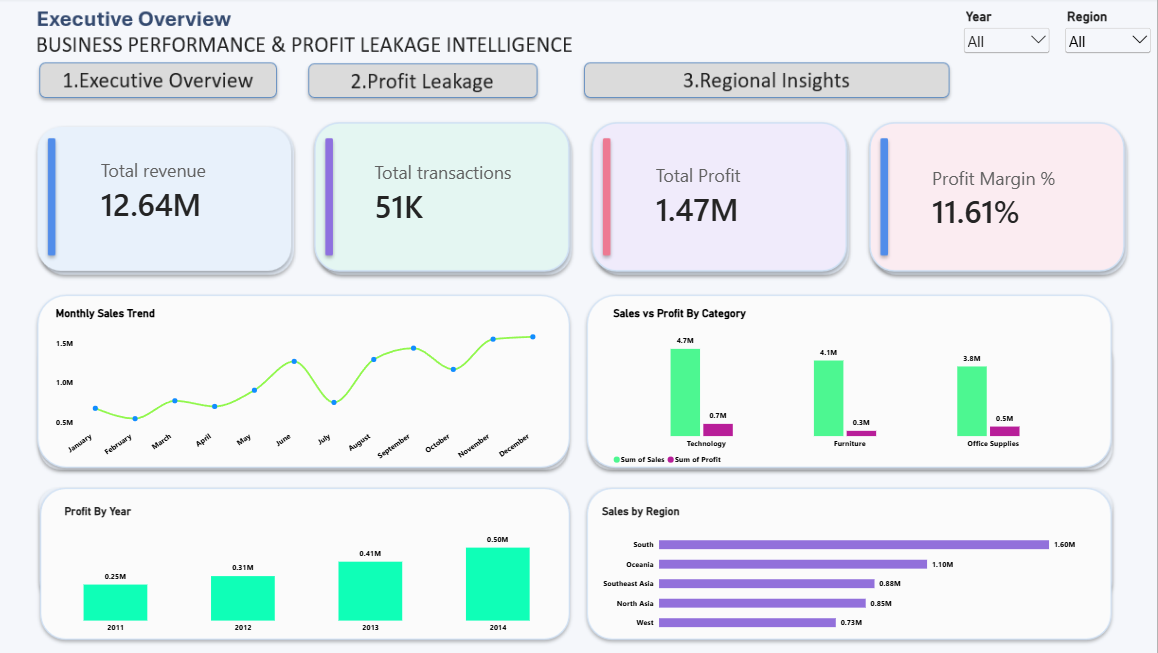

What the dashboard file says about the page in this screenshot:
{"tool":"powerbi","page":{"name":"Executive overview","canvas":[1920,1080],"ordinal":0},"visuals":[{"type":"cardVisual","fields":{"Data":["Superstore.Total revenue"]},"box":[164.7,247,216.1,146.1],"z":0},{"type":"cardVisual","fields":{"Data":["Superstore.Total transactions"]},"box":[615.4,247,269.6,146.1],"z":1},{"type":"cardVisual","fields":{"Data":["Superstore.Total Profit"]},"box":[1078.6,257.3,240.8,135.8],"z":2},{"type":"cardVisual","fields":{"Data":["Superstore.Profit Margin %"]},"box":[1533.5,265.5,236.7,127.6],"z":3},{"type":"actionButton","box":[74.1,100.9,395.2,65.9],"z":4},{"type":"actionButton","box":[518.7,109.1,387,57.6],"z":5},{"type":"actionButton","box":[973.6,100.9,605.1,65.9],"z":6},{"type":"lineChart","title":"Monthly Sales Trend","fields":{"Category":["Superstore.Order_Date.Variation.Date Hierarchy.Month"],"Y":["Sum(Superstore.Sales)"]},"box":[90.6,491.9,843.9,296.4],"z":7},{"type":"clusteredColumnChart","title":"Sales vs Profit By Category","fields":{"Category":["Superstore.Category"],"Y":["Sum(Superstore.Sales)","Sum(Superstore.Profit)"]},"box":[1008.6,491.9,811,296.4],"z":8},{"type":"columnChart","title":"Profit By Year","fields":{"Category":["Superstore.Order_Date.Variation.Date Hierarchy.Year"],"Y":["Sum(Superstore.Profit)"]},"box":[105,819.2,829.5,244.9],"z":9},{"type":"clusteredBarChart","title":"Sales by Region","fields":{"Category":["Superstore.Region"],"Y":["Sum(Superstore.Sales)"]},"box":[990.1,819.2,848,244.9],"z":10},{"type":"slicer","fields":{"Values":["Superstore.Order_Date.Variation.Date Hierarchy.Year"]},"box":[1597.3,16.5,150.3,92.6],"z":11},{"type":"slicer","fields":{"Values":["Superstore.Region"]},"box":[1764,16.5,150.3,82.3],"z":12}]}

Visuals, with their boxes in screenshot pixels (x1, y1, x2, y2), scaled from the page's 1920x1080 canvas onto the 1158x653 screenshot:
cardVisual - Superstore.Total revenue: x1=99, y1=149, x2=230, y2=238
cardVisual - Superstore.Total transactions: x1=371, y1=149, x2=534, y2=238
cardVisual - Superstore.Total Profit: x1=651, y1=156, x2=796, y2=238
cardVisual - Superstore.Profit Margin %: x1=925, y1=161, x2=1068, y2=238
actionButton: x1=45, y1=61, x2=283, y2=101
actionButton: x1=313, y1=66, x2=546, y2=101
actionButton: x1=587, y1=61, x2=952, y2=101
"Monthly Sales Trend" lineChart: x1=55, y1=297, x2=564, y2=477
"Sales vs Profit By Category" clusteredColumnChart: x1=608, y1=297, x2=1097, y2=477
"Profit By Year" columnChart: x1=63, y1=495, x2=564, y2=643
"Sales by Region" clusteredBarChart: x1=597, y1=495, x2=1109, y2=643
slicer - Superstore.Order_Date.Variation.Date Hierarchy.Year: x1=963, y1=10, x2=1054, y2=66
slicer - Superstore.Region: x1=1064, y1=10, x2=1155, y2=60
